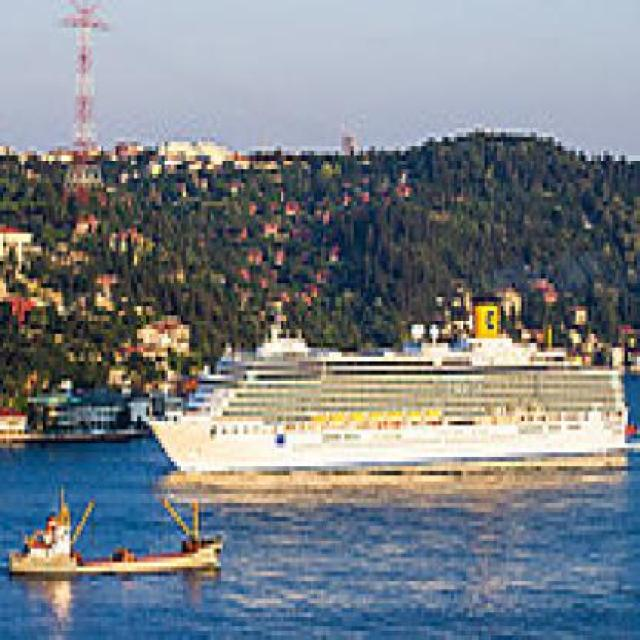cruise: (141, 290, 638, 504)
